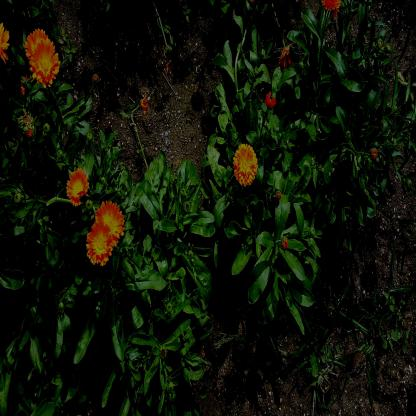marigold: (33, 40, 59, 86), (94, 198, 124, 236), (234, 143, 257, 185), (87, 224, 111, 264), (66, 170, 88, 204)
